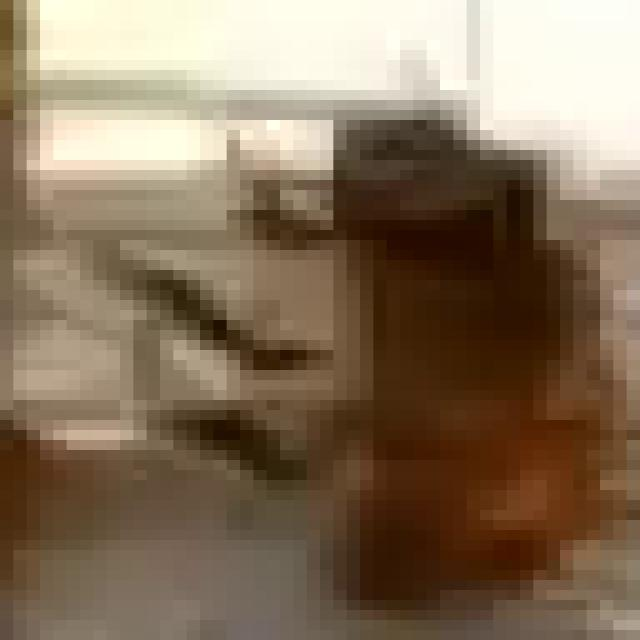honeybee: (188, 95, 640, 606)
